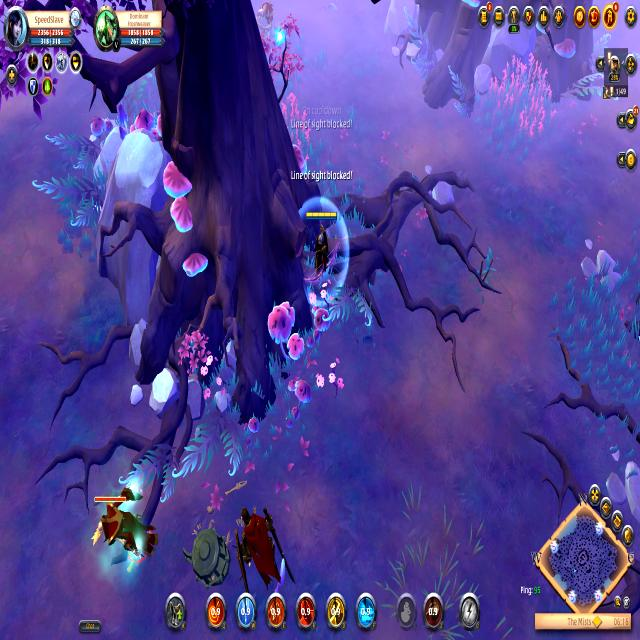ore: (91, 483, 162, 576), (228, 496, 294, 593), (255, 0, 276, 32)
red: (302, 206, 338, 280)
